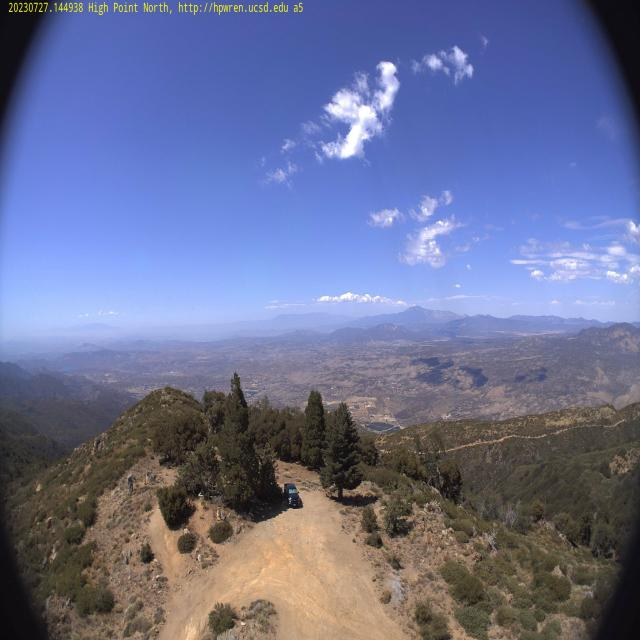smoke: (554, 320, 577, 342)
